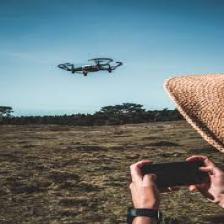drone: (57, 59, 122, 76)
